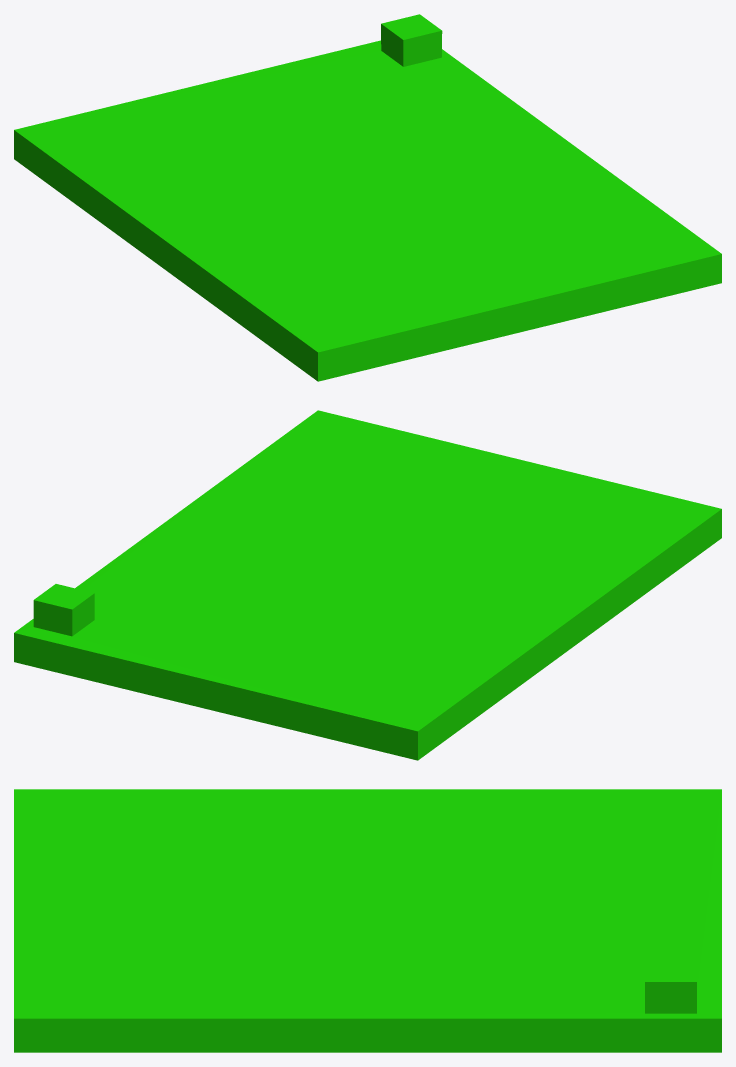
Rendered from SM_Shelf_03_Door_01_Collider.fbx.
The picture shows the model from 3 angles, top to bottom: view 1: azimuth 30°, elevation 25°; view 2: azimuth 150°, elevation 25°; view 3: azimuth 270°, elevation 25°; orthographic projection. The views are drawn at different scales.
Visible parts, largest first — view 1: SM_Shelf_03_Door_01_Collider; view 2: SM_Shelf_03_Door_01_Collider; view 3: SM_Shelf_03_Door_01_Collider.
Boxes of the visible parts, x1,y1,x2,y2 form: SM_Shelf_03_Door_01_Collider: (14,14,721,381); SM_Shelf_03_Door_01_Collider: (14,410,721,760); SM_Shelf_03_Door_01_Collider: (14,789,721,1052).
Size of the model in its own units: 64.77 by 8.63 by 84.45.
